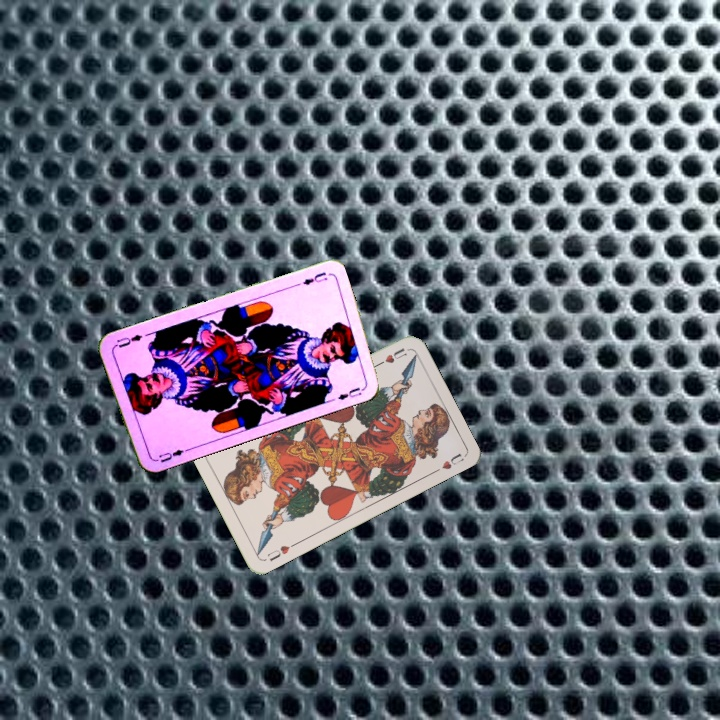EU: (155, 444, 191, 465), (299, 268, 330, 288)
HU: (372, 344, 409, 369), (263, 539, 299, 564)
